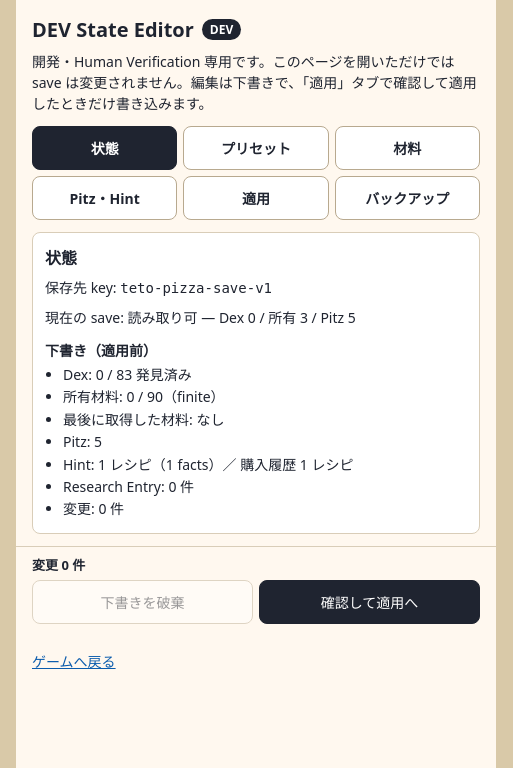
Test case: backup / restore › restoring a missing / broken backup reports it and writes nothing to the save
The image size is (513, 768).
What coordinates should you click on to do the following:
click the tab "バックアップ"
I would click on:
 (407, 198)
Its box is [335,176,480,220].
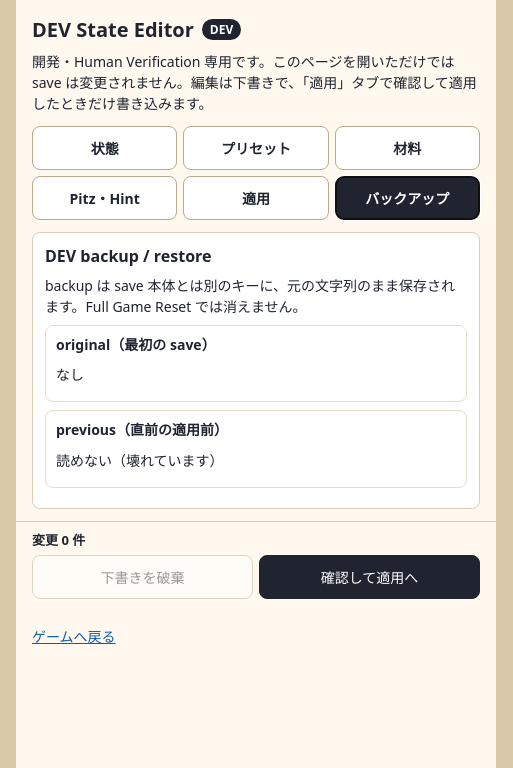
Expected: the list item "previous（直前の適用前） 読めない（壊れています）" is shown, [45,410,467,488]
